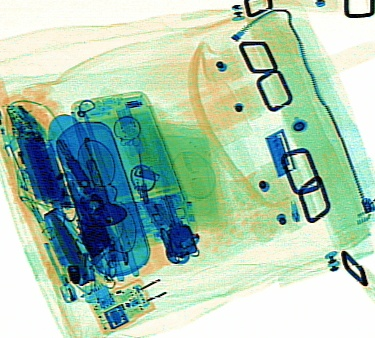lighter: (6, 134, 45, 204), (1, 77, 22, 153)
powerbank: (1, 91, 71, 210)
